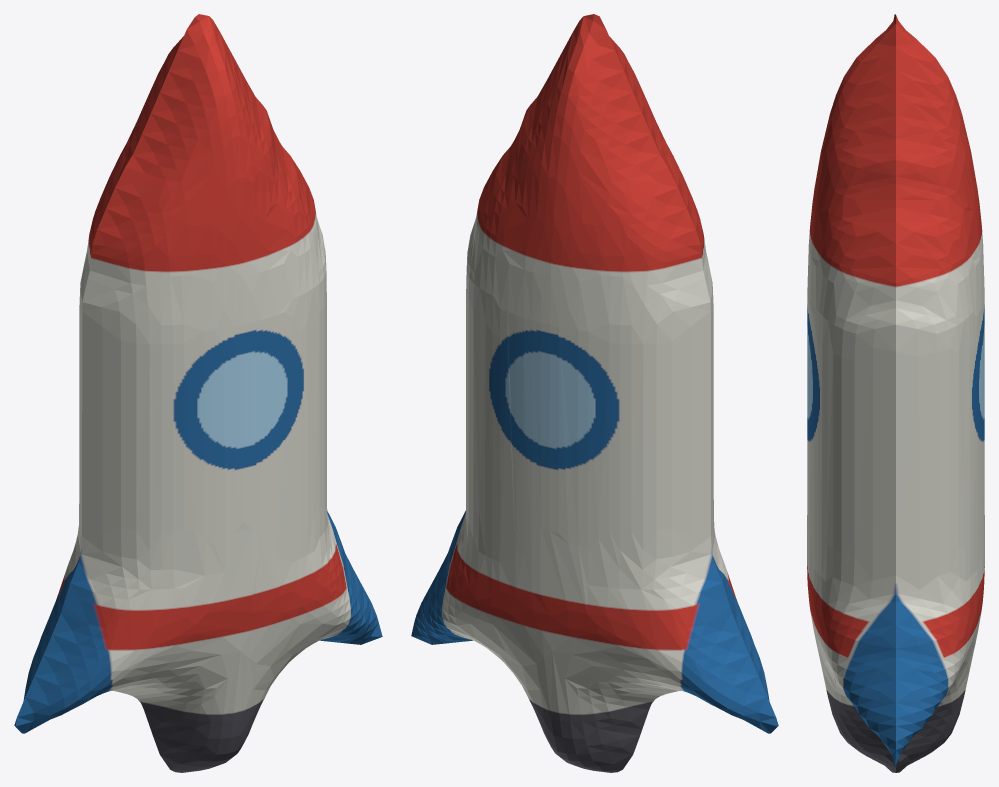
Rendered from rocket.v2-retopo.glb.
The picture shows the model from 3 angles, left to right: view 1: azimuth 30°, elevation 25°; view 2: azimuth 150°, elevation 25°; view 3: azimuth 270°, elevation 25°; orthographic projection.
Visible parts, largest first — view 1: world; view 2: world; view 3: world.
Part boxes in pixels (box(x1,y1,x2,y2)): world: box(14, 14, 382, 772); world: box(411, 14, 778, 772); world: box(807, 14, 984, 772).
Size of the model in its own units: 0.1017 by 0.2 by 0.0429.
Materials: 1 (1 with a texture image).
